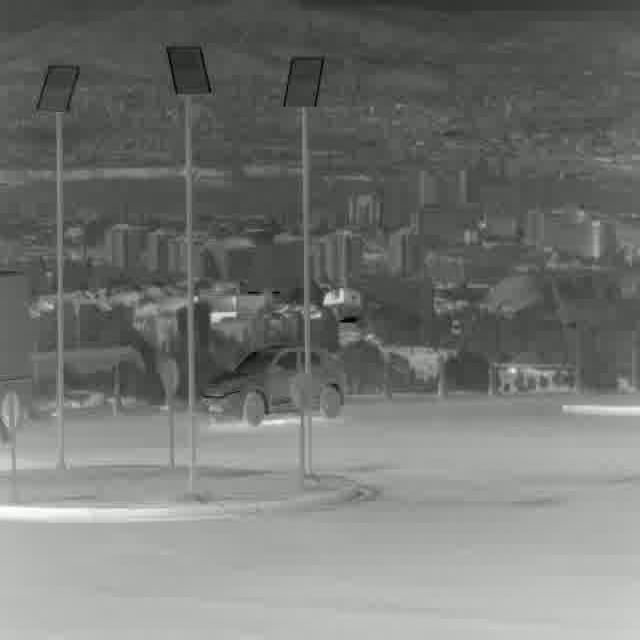Car: (200, 346, 342, 422), (0, 273, 32, 435)
